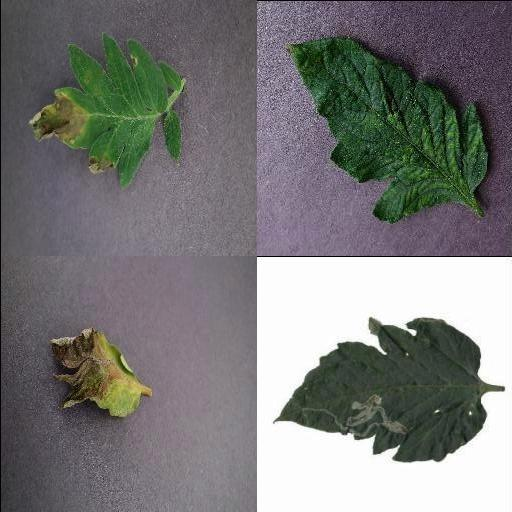Late Blight: (26, 36, 182, 190), (47, 329, 143, 417)
Leaf Miner: (273, 314, 487, 462)
Mosaic Virus: (286, 37, 488, 221)
